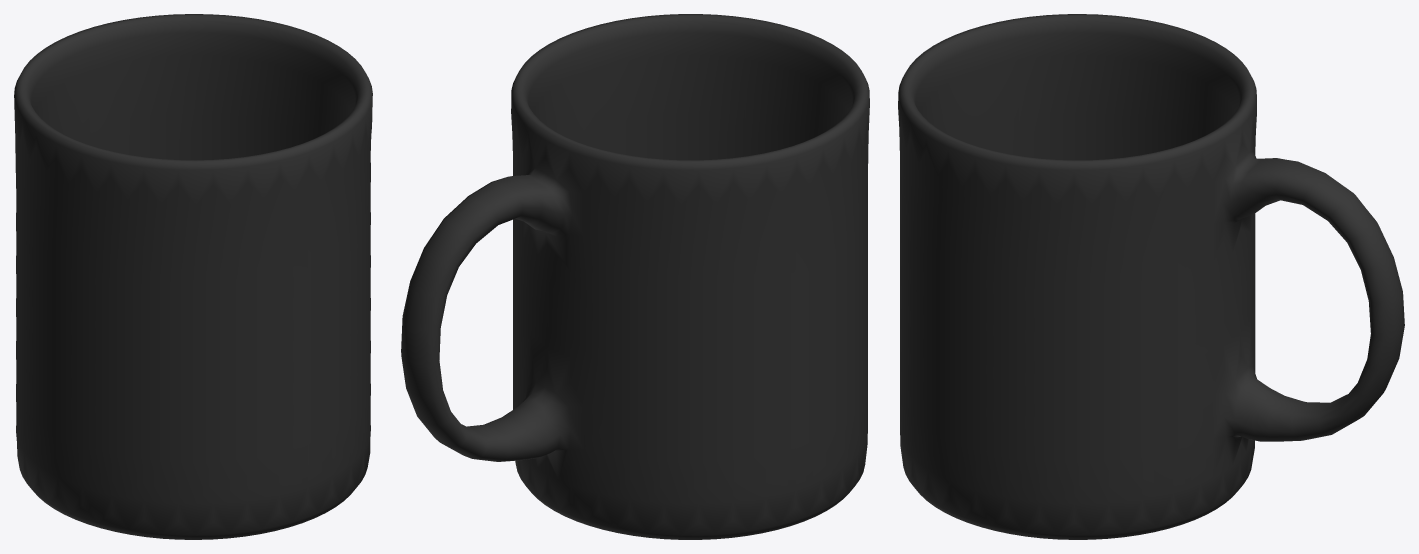
File: classic-mug.obj
3 renders of one model, left to right at view 1: azimuth 30°, elevation 25°; view 2: azimuth 150°, elevation 25°; view 3: azimuth 270°, elevation 25°, orthographic.
Visible parts, largest first — view 1: Mug; view 2: Mug; view 3: Mug.
Part boxes in pixels (x1,y1,x2,y2): Mug: (14, 14, 372, 539); Mug: (401, 14, 869, 539); Mug: (898, 14, 1404, 539).
Size of the model in its own units: 2.18 by 2.59 by 3.08.
